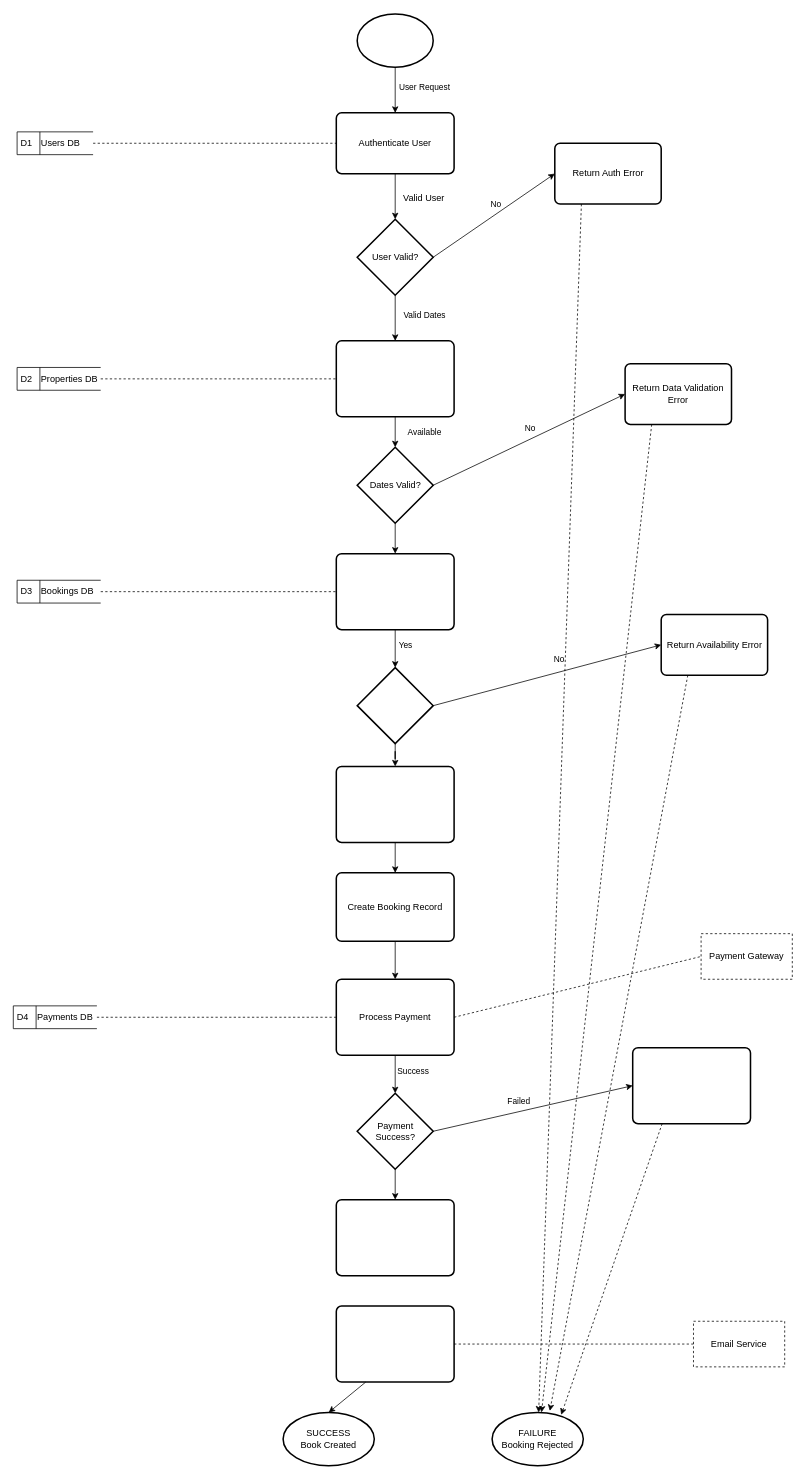
Image size: 806x1479. Some labels were removed from this diagram. Here are the shapes that lost their labels. From the top down, the centre of each, then its label:
At point 395,40: "START Book Request".
At point 394,378: "Validate Check in/out dates".
At point 394,591: "Check Property Availability".
At point 395,705: "Property Available?".
At point 394,804: "Calculate Total Cost".
At point 691,1085: "Roll Booking & Return Error".
At point 394,1237: "Confirm Booking & Update Status".
At point 394,1343: "Send Confirmation Notifications".
